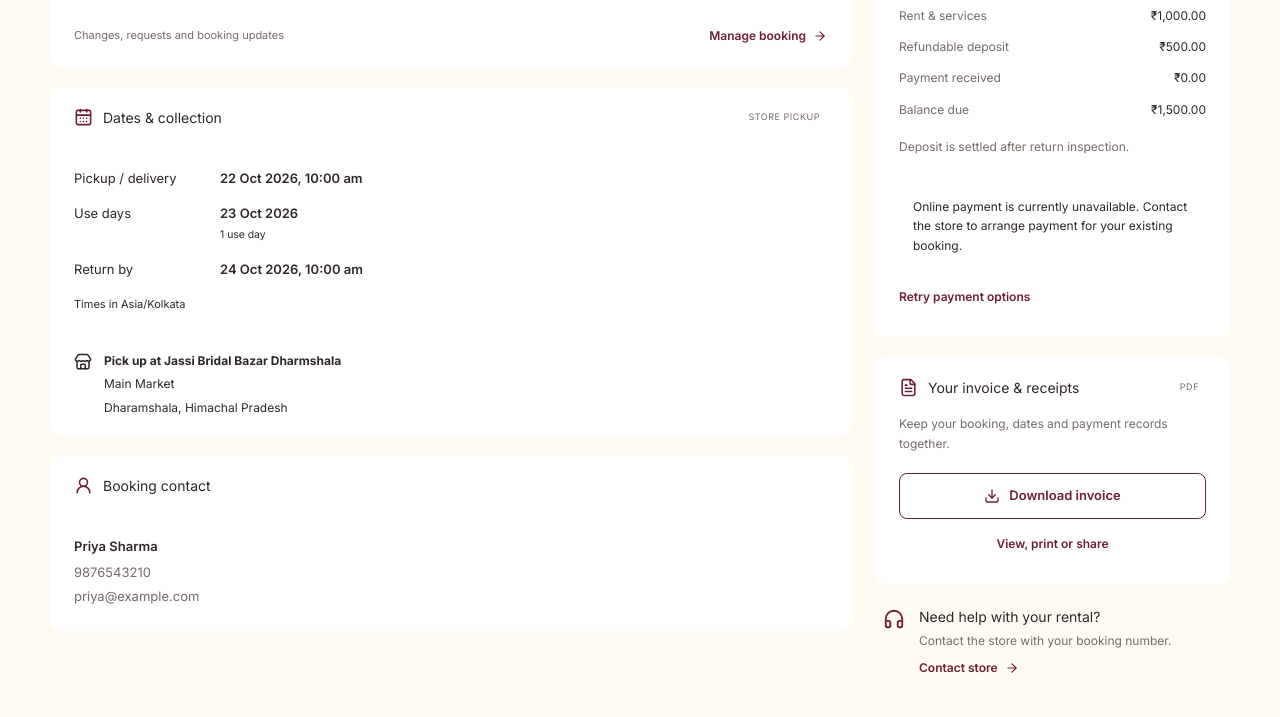
failed PDF downloads show an actionable error and can be retried
(page scrolled)
Click the button "Download invoice".
click(1052, 496)  # box [899,472,1206,518]
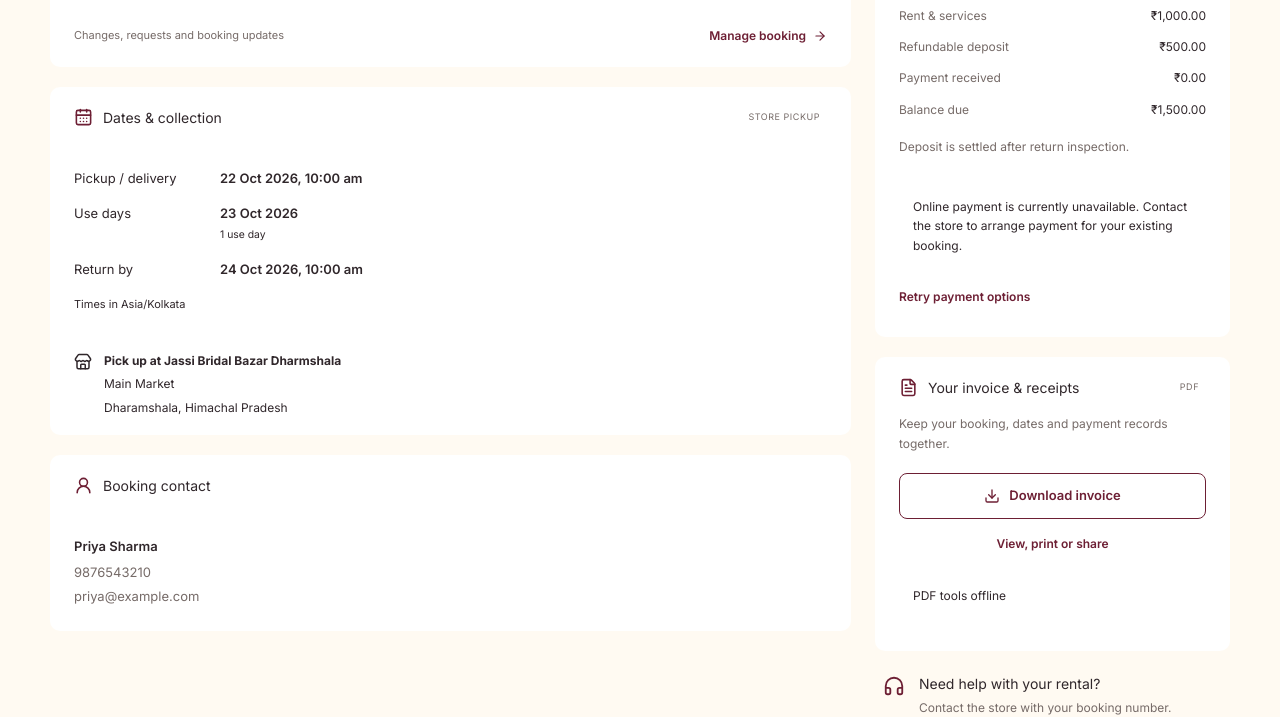
Check: the text "PDF tools offline" is shown, box [913,588,1006,602]
Click the button "Download invoice".
click(1052, 496)  # box [899,472,1206,518]
(page scrolled)
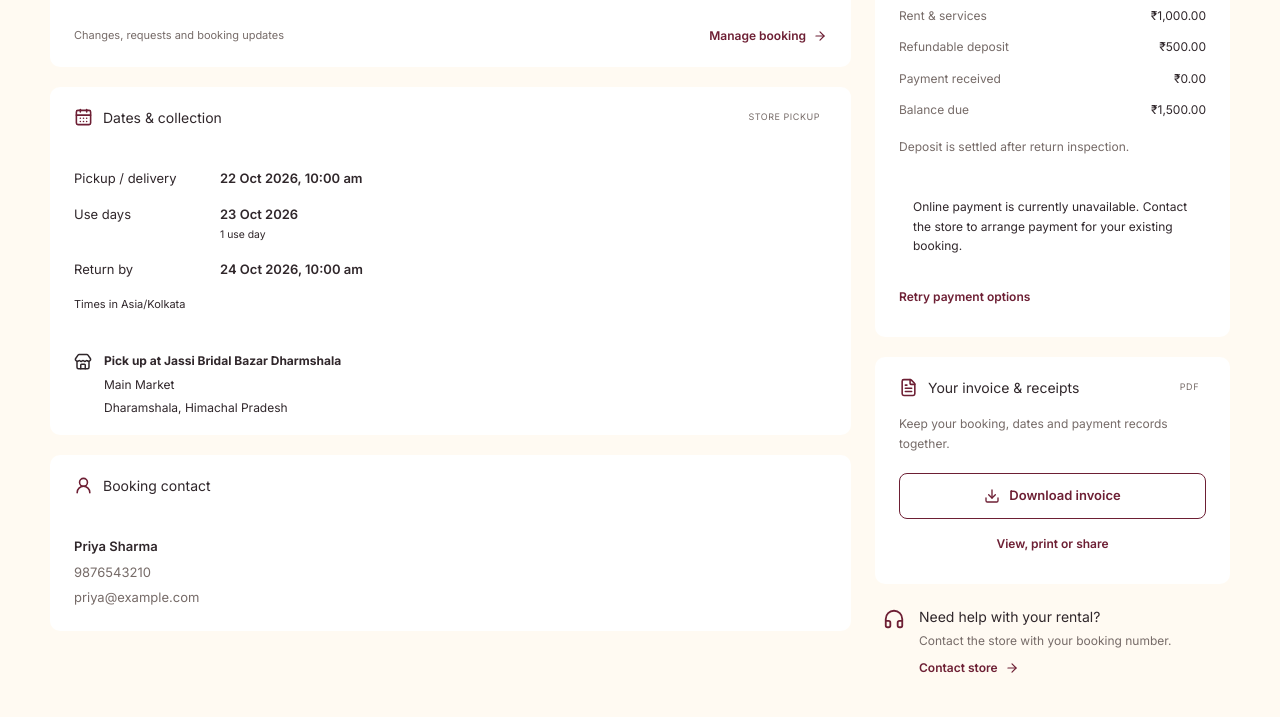
Check: the text "PDF tools offline" is gone
